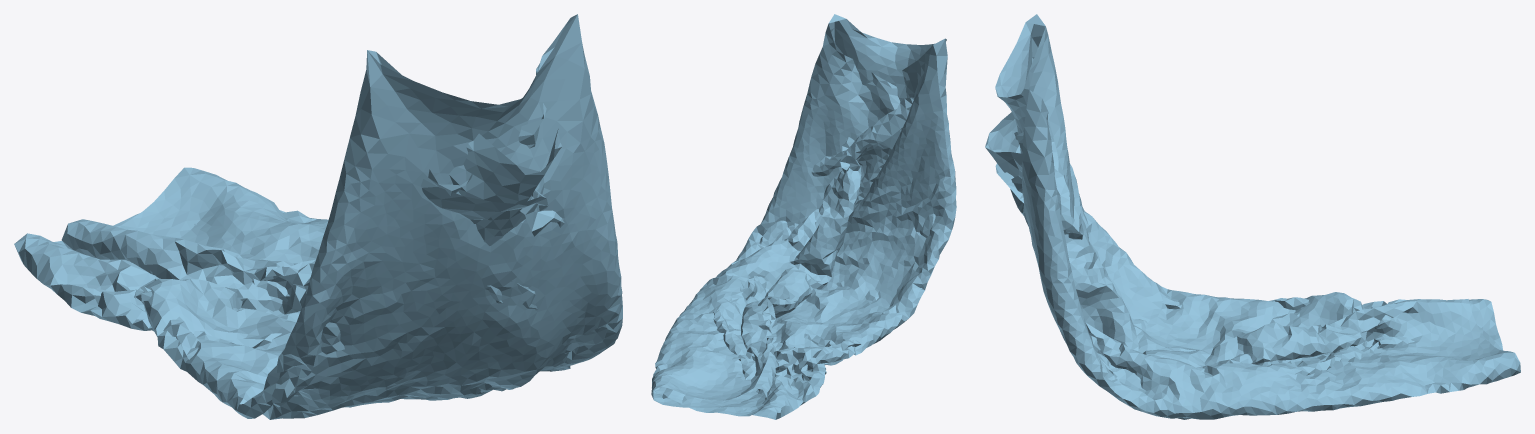
The model's file is frame_07.glb.
The picture shows the model from 3 angles, left to right: view 1: azimuth 30°, elevation 25°; view 2: azimuth 150°, elevation 25°; view 3: azimuth 270°, elevation 25°; orthographic projection. The views are drawn at different scales.
Parts seen in each view (by area): view 1: frame_07.obj; view 2: frame_07.obj; view 3: frame_07.obj.
Boxes of the visible parts, bbox=[...] form: frame_07.obj: bbox=[14, 14, 622, 419]; frame_07.obj: bbox=[651, 14, 956, 419]; frame_07.obj: bbox=[985, 14, 1520, 419].
Size of the model in its own units: 0.8136 by 0.9942 by 1.55.
